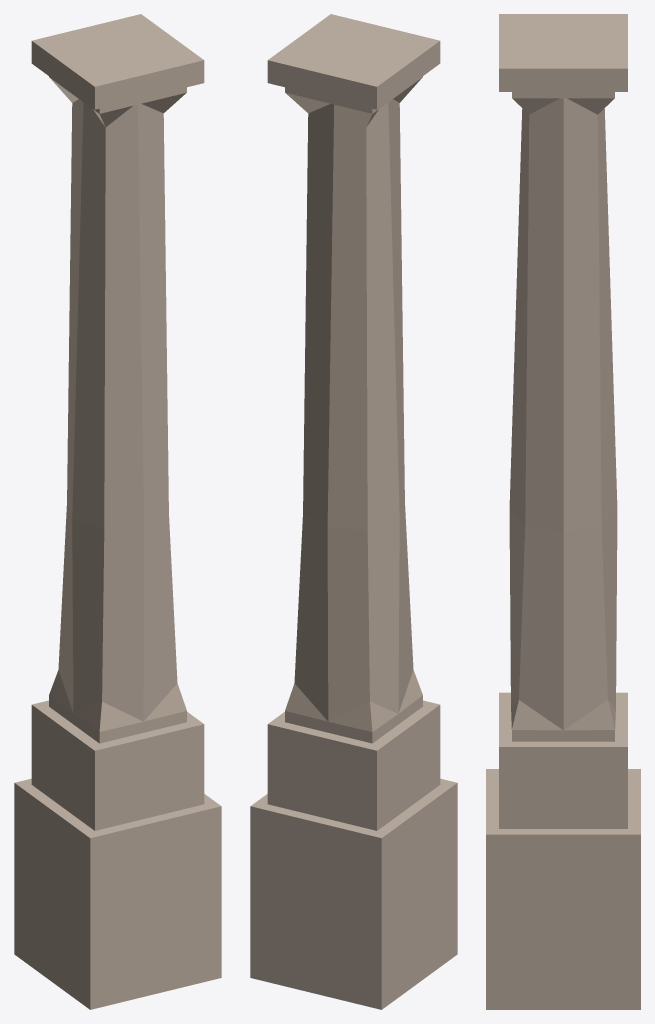
File: greek_column_2.fbx
3 renders of one model, left to right at view 1: azimuth 30°, elevation 25°; view 2: azimuth 150°, elevation 25°; view 3: azimuth 270°, elevation 25°, orthographic. The views are drawn at different scales.
Parts seen in each view (by area): view 1: Cube.029; view 2: Cube.029; view 3: Cube.029.
Boxes of the visible parts, bbox=[...] form: Cube.029: bbox=[14, 14, 221, 1009]; Cube.029: bbox=[250, 14, 457, 1009]; Cube.029: bbox=[486, 14, 640, 1009].
Size of the model in its own units: 120 by 800 by 120.
